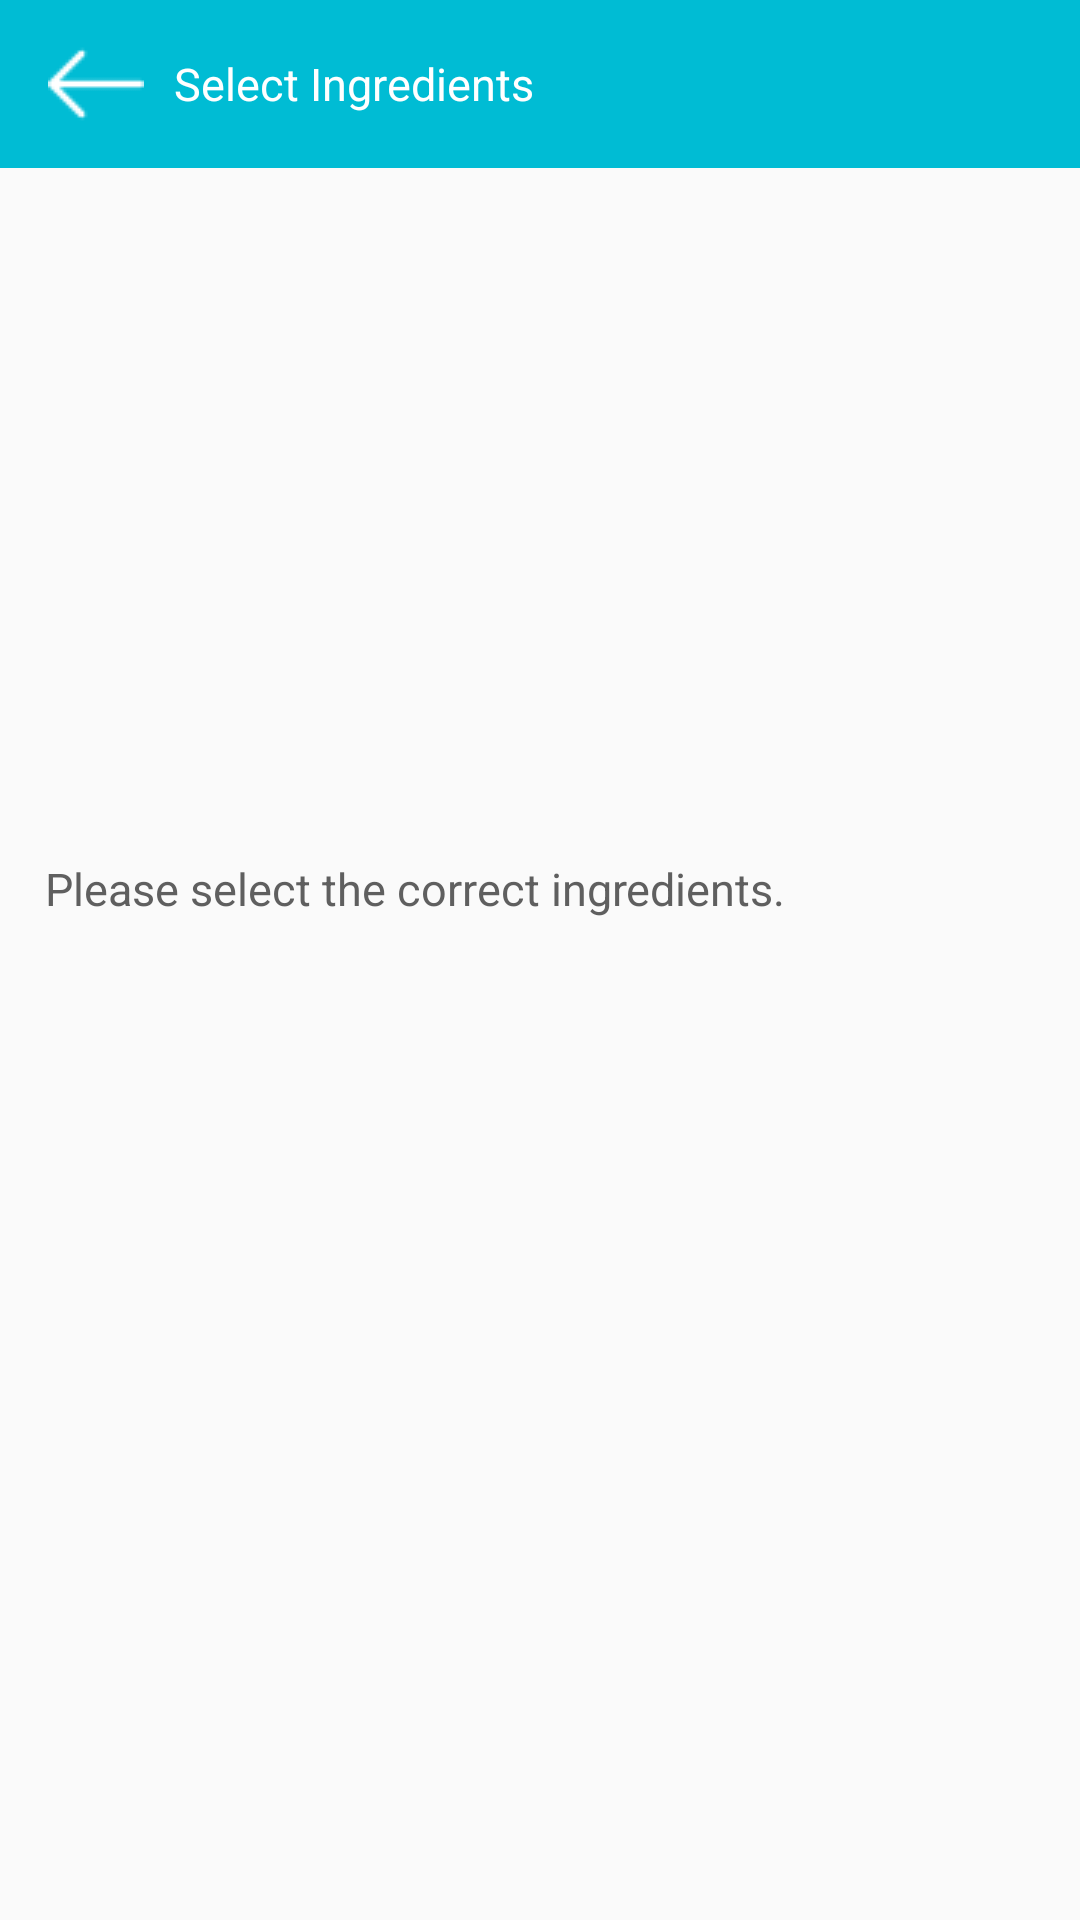

Icons on this 1080*1920 Android screen, each with its box as bbox=(x1, y1, x2, y2):
left arrow: bbox=(48, 49, 144, 119)
